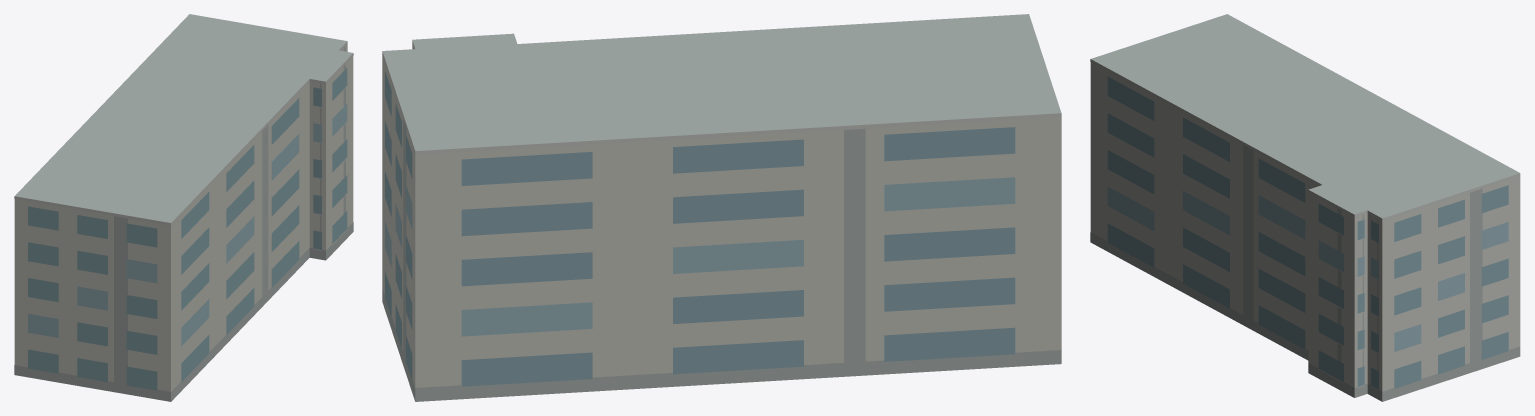
Rendered from residential-b0bb9690-7b27-4563-9050-6b1d7d27d8db.glb.
The picture shows the model from 3 angles, left to right: view 1: azimuth 30°, elevation 25°; view 2: azimuth 150°, elevation 25°; view 3: azimuth 270°, elevation 25°; orthographic projection. The views are drawn at different scales.
Visible parts, largest first — view 1: residential-b0bb9690-7b27-4563-9050-6b1d7d27d8db.tmp; view 2: residential-b0bb9690-7b27-4563-9050-6b1d7d27d8db.tmp; view 3: residential-b0bb9690-7b27-4563-9050-6b1d7d27d8db.tmp.
Part boxes in pixels (x1,y1,x2,y2): residential-b0bb9690-7b27-4563-9050-6b1d7d27d8db.tmp: [14, 14, 353, 401]; residential-b0bb9690-7b27-4563-9050-6b1d7d27d8db.tmp: [382, 14, 1061, 401]; residential-b0bb9690-7b27-4563-9050-6b1d7d27d8db.tmp: [1090, 14, 1520, 401].
Bounding box in the file's own units: 36.48 × 15.25 × 32.4.
